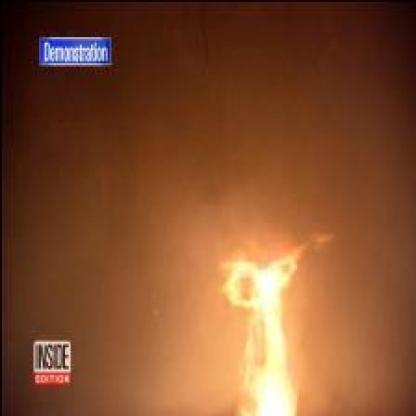Fire: (229, 237, 298, 415)
